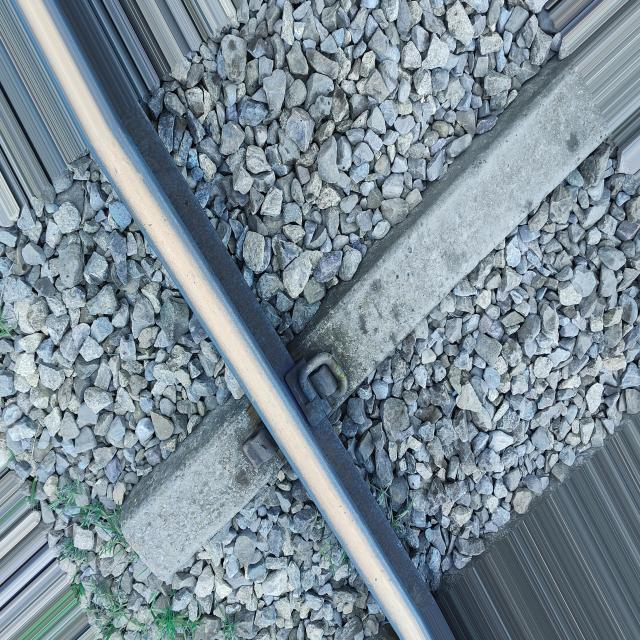Good Fasteners: (286, 329, 367, 435)
Missing Fastener: (234, 413, 284, 494)
